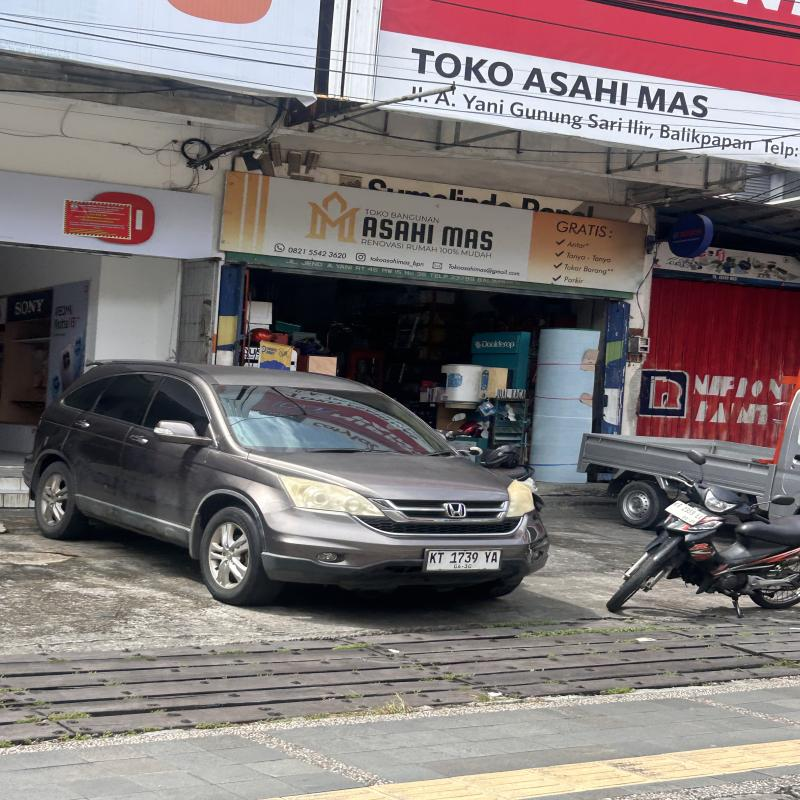license plate on a car: (427, 549, 501, 570)
